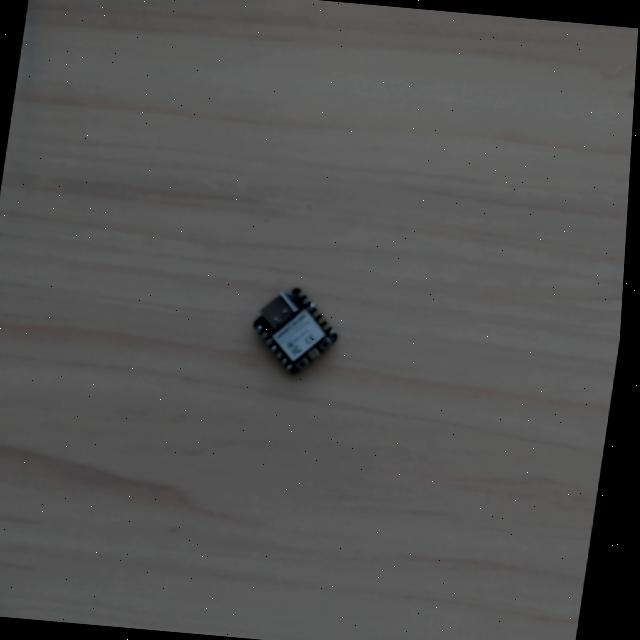ESP32C3-Xiao: (244, 281, 340, 377)
